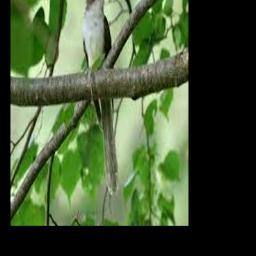Cuckoo: (82, 0, 118, 196)
